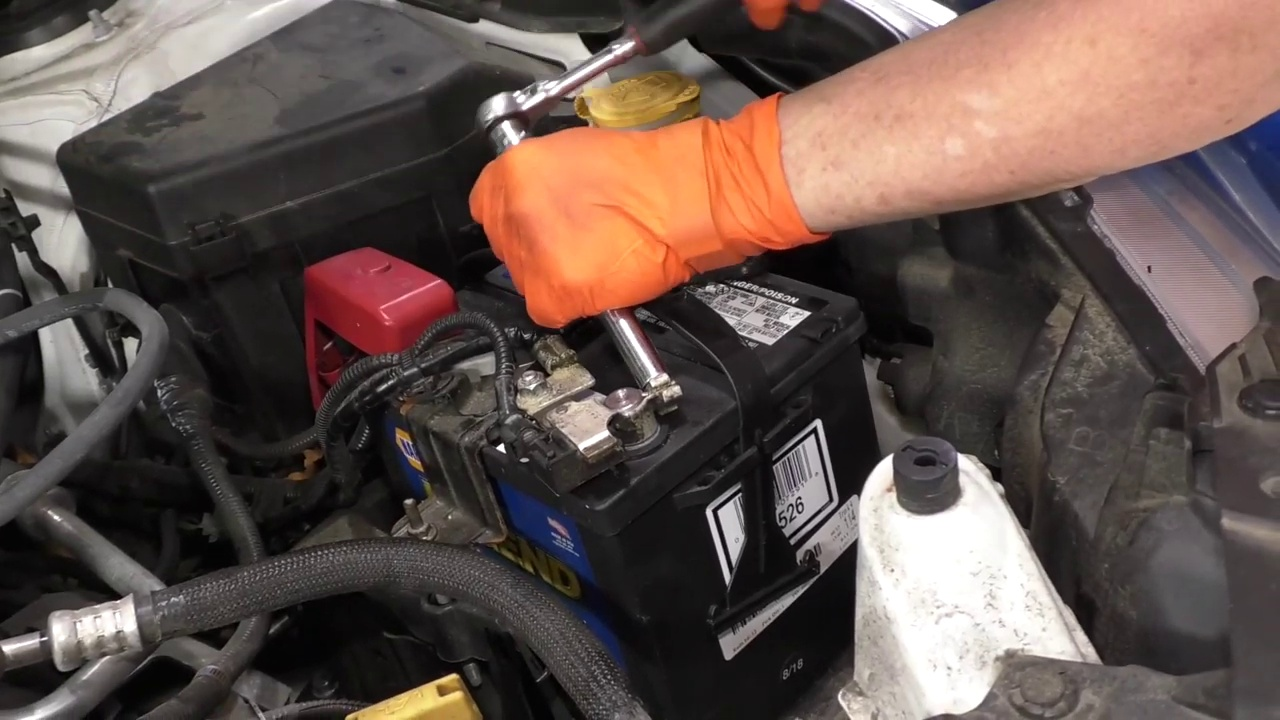battery: (337, 222, 853, 494)
neg_connected: (549, 368, 663, 478)
pos_connected: (276, 230, 469, 391)
